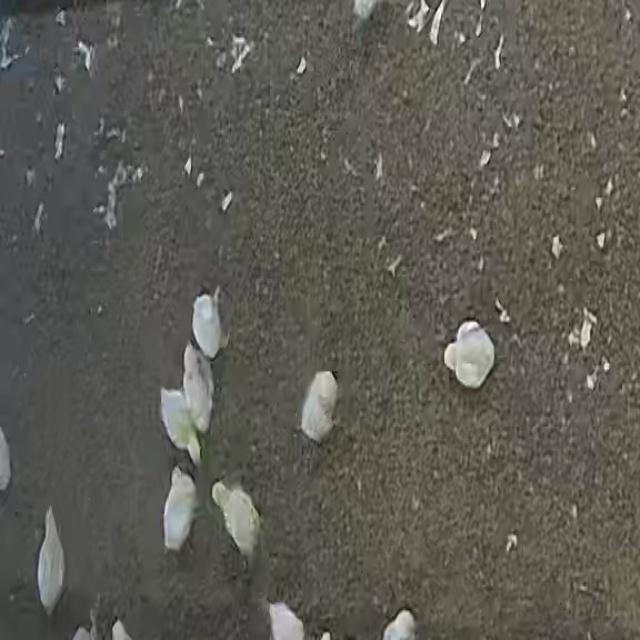chicken: (208, 478, 265, 564), (440, 315, 499, 393), (34, 502, 71, 616), (156, 385, 204, 468), (161, 465, 199, 554), (298, 368, 342, 444), (182, 339, 215, 435), (190, 288, 227, 362)
